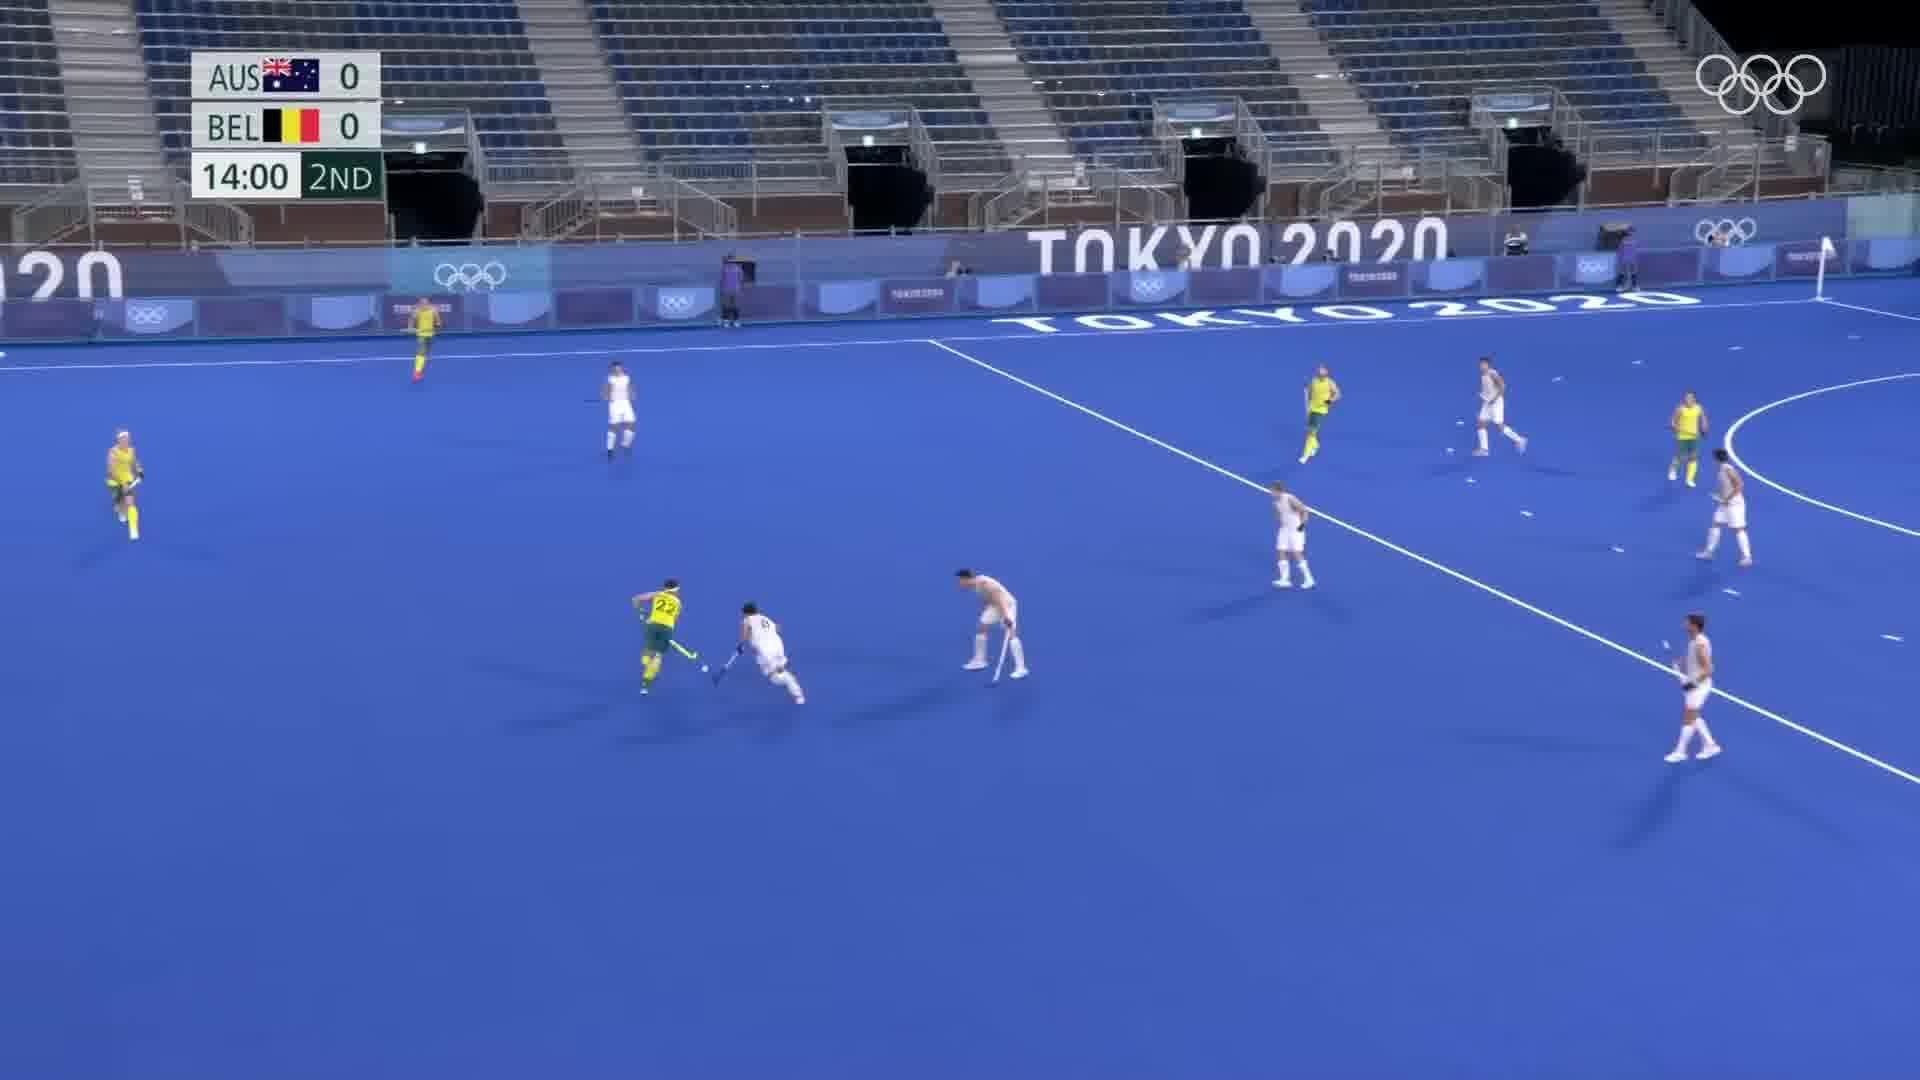ball: (698, 662, 713, 676)
